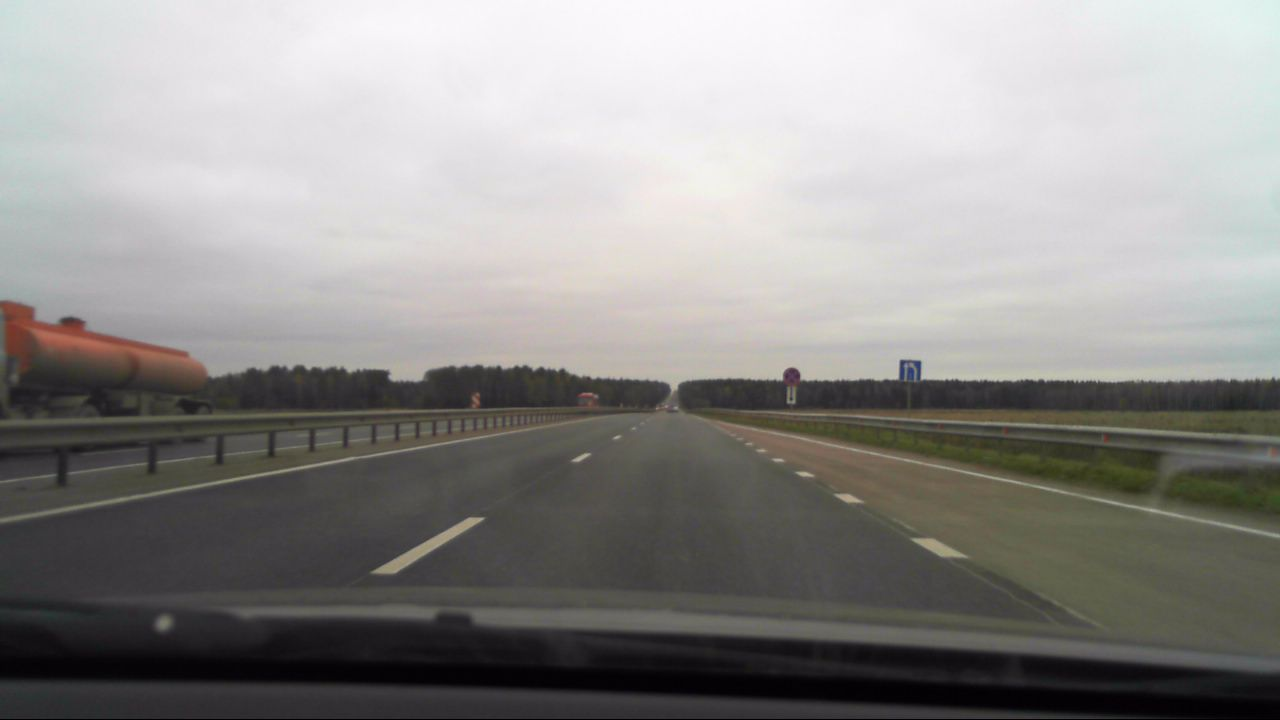No Parking: (782, 365, 802, 384)
